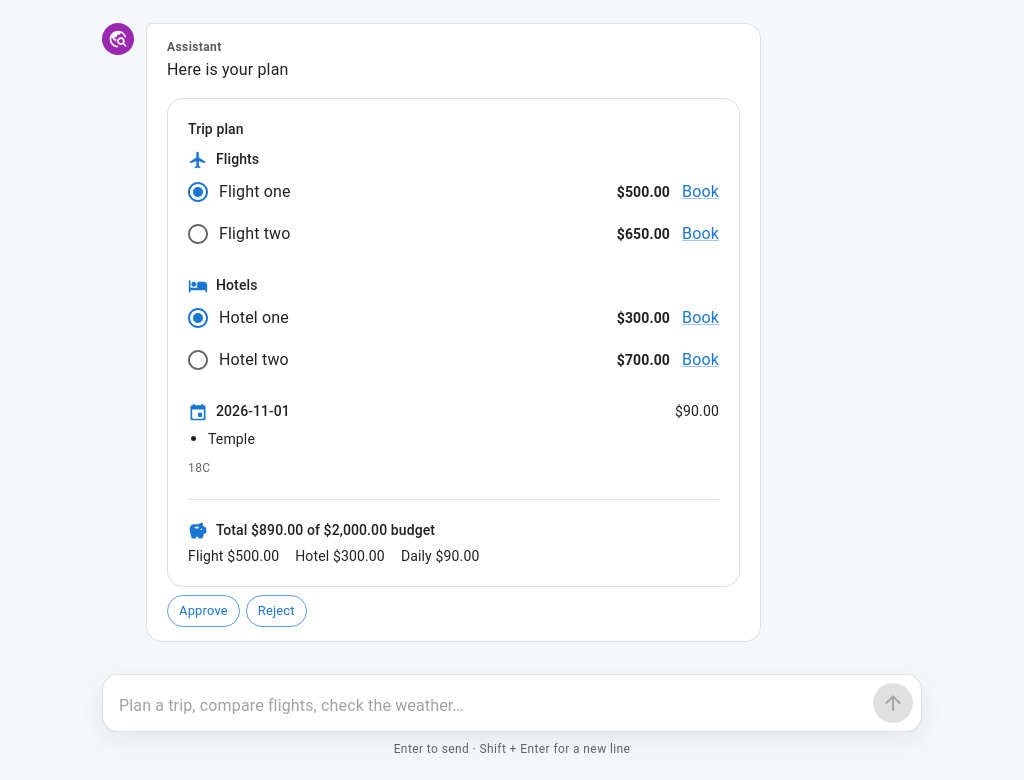
Test: ChatPage plan card › posts the Approve pill with the card id and the current picks
This screenshot has width=1024, height=780.
(page scrolled)
Click the radio button labelled "Hotel two" at [237, 360], box [186,348,289,372]
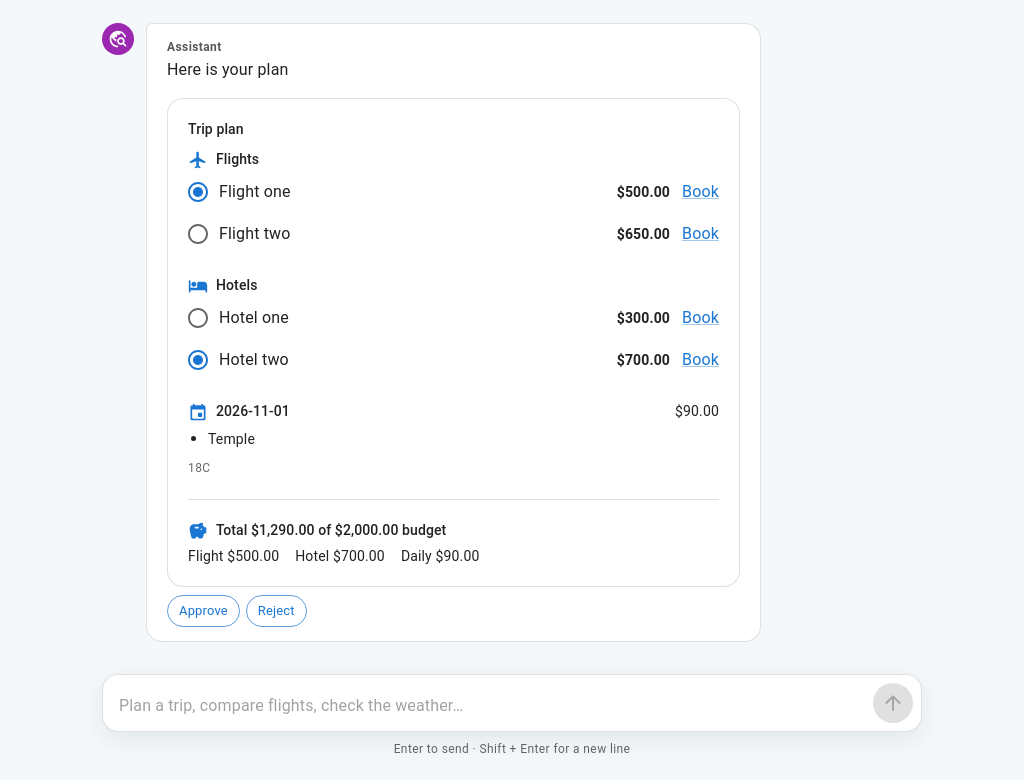
Click the button "Approve" at [203, 611], box [167,595,240,627]
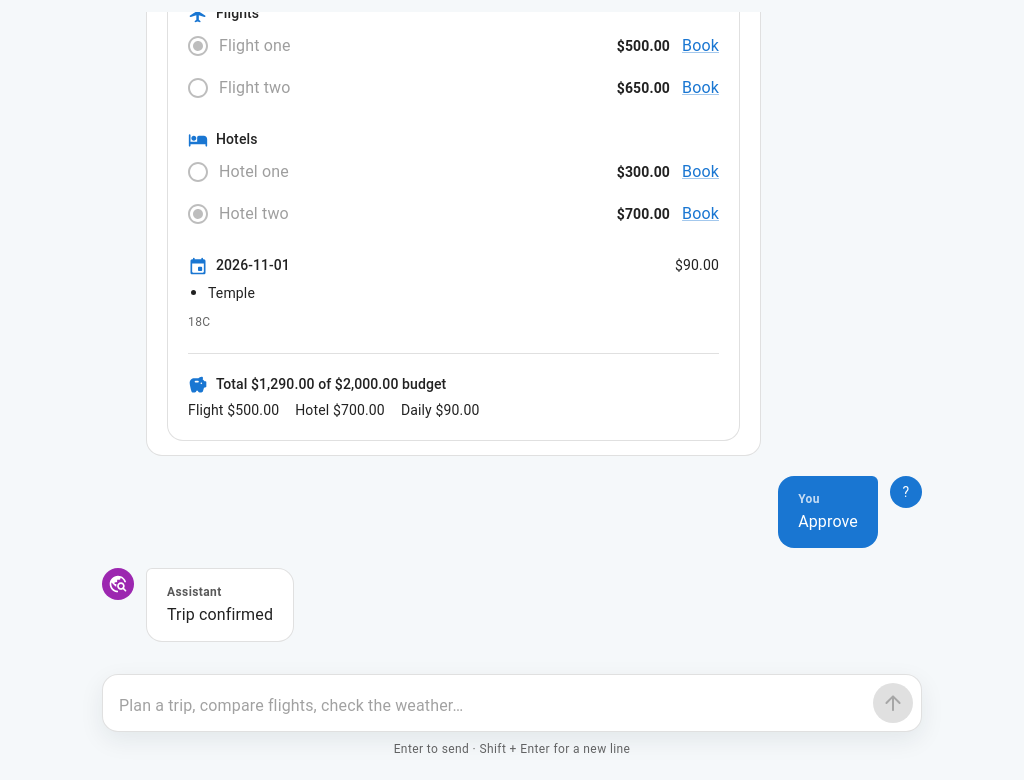
Check: the radio button labelled "Hotel two" is checked, box [186,202,289,226]
Check: the text "Trip confirmed" is shown, box [167,602,273,626]
Check: the radio button labelled "Hotel two" is disabled, box [186,202,289,226]
